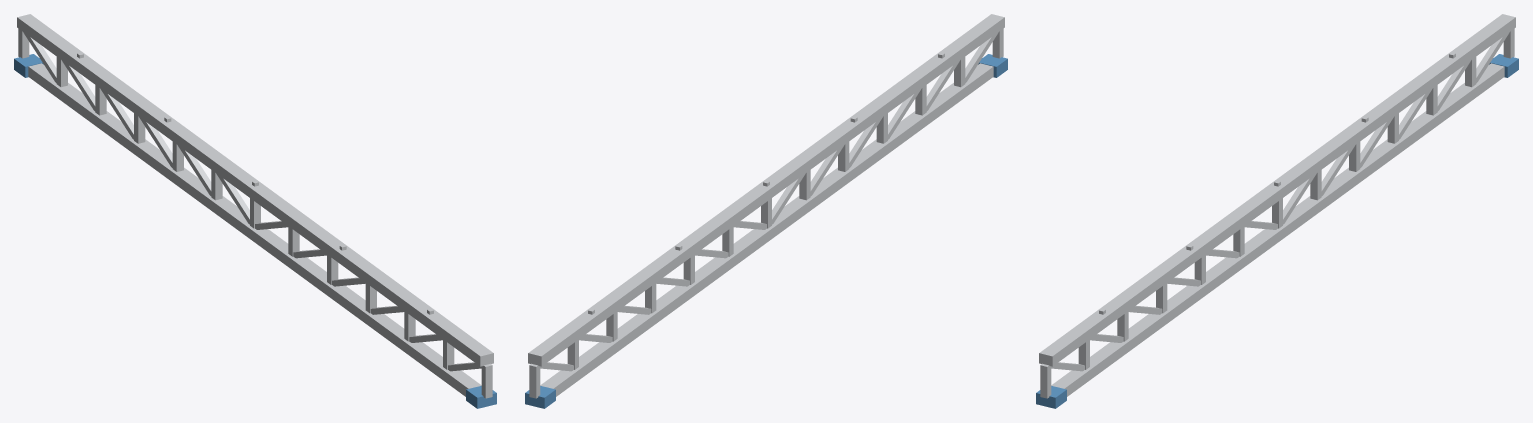
Rendered from hall-roof-truss-bay.glb.
The picture shows the model from 3 angles, left to right: view 1: azimuth 30°, elevation 25°; view 2: azimuth 150°, elevation 25°; view 3: azimuth 330°, elevation 25°; orthographic projection.
Visible parts, largest first — view 1: hall-roof-truss-bay; view 2: hall-roof-truss-bay; view 3: hall-roof-truss-bay.
Part boxes in pixels (x1,y1,x2,y2): hall-roof-truss-bay: (14,14,496,408); hall-roof-truss-bay: (525,14,1007,408); hall-roof-truss-bay: (1036,14,1518,408).
Bounding box in the file's own units: 0.4395 × 1.18 × 18.16.
